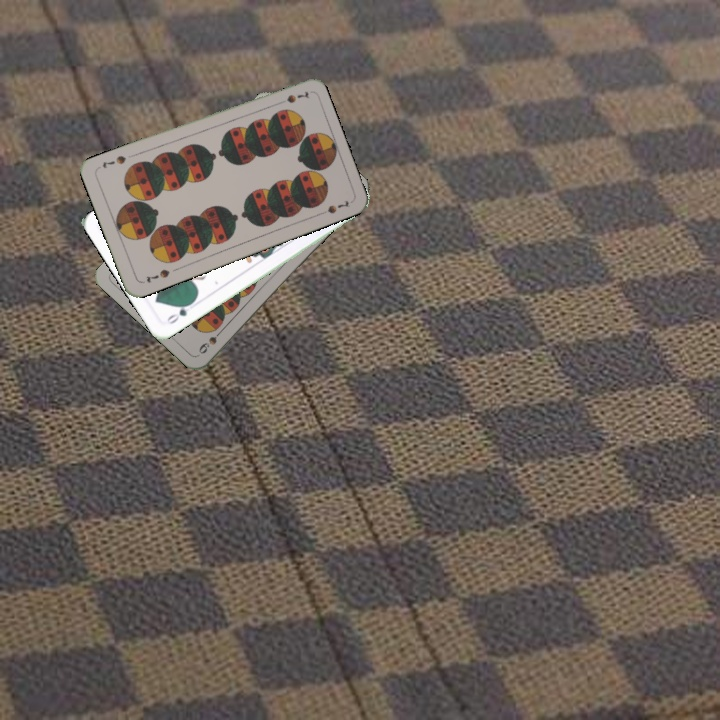GO: (163, 297, 196, 327)
S7: (271, 87, 311, 108), (142, 265, 172, 285)
S9: (195, 324, 226, 357)
